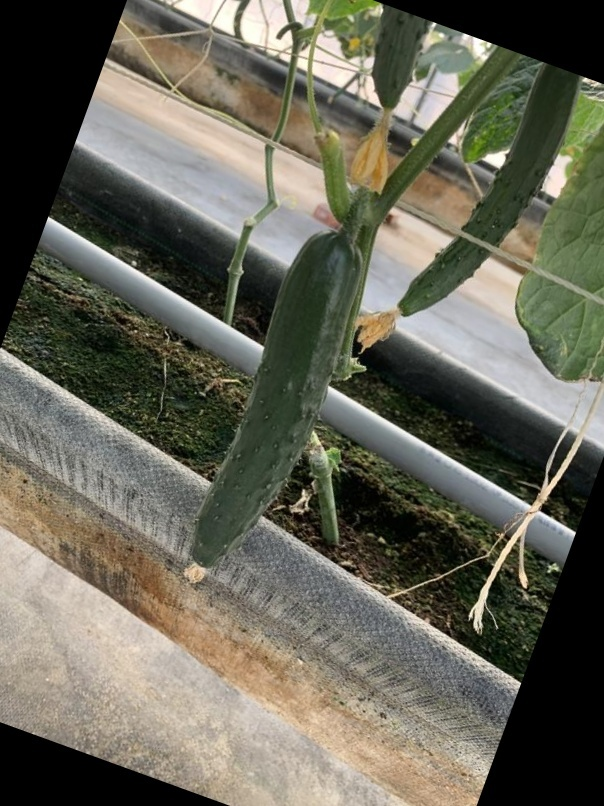mature: (205, 230, 375, 569), (396, 69, 581, 308)
